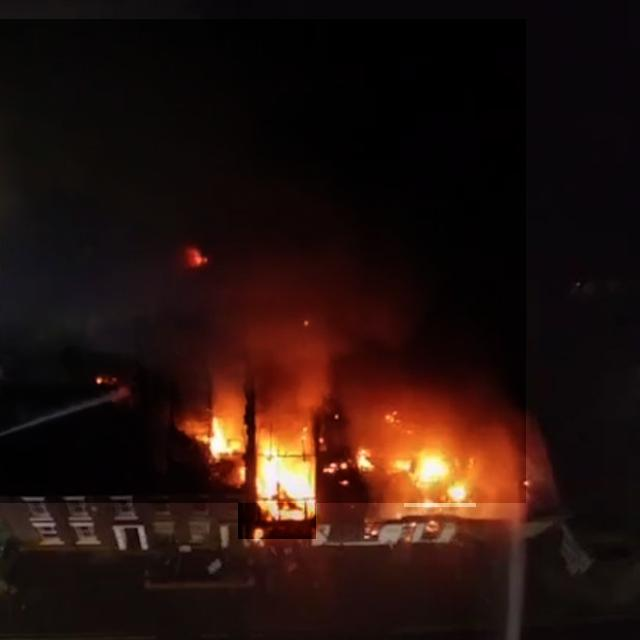Fire: (238, 437, 316, 539), (404, 446, 476, 507), (325, 446, 383, 498), (192, 406, 240, 462), (88, 362, 135, 398), (172, 239, 218, 273)
Smoke: (0, 19, 526, 503)
